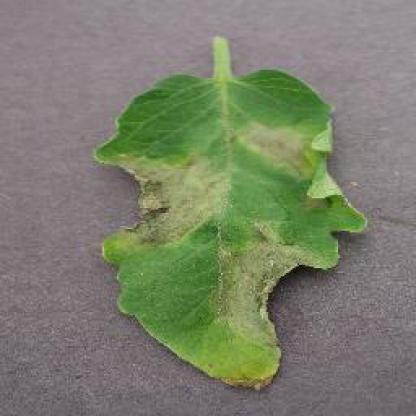bad leaf: (83, 22, 364, 414)
